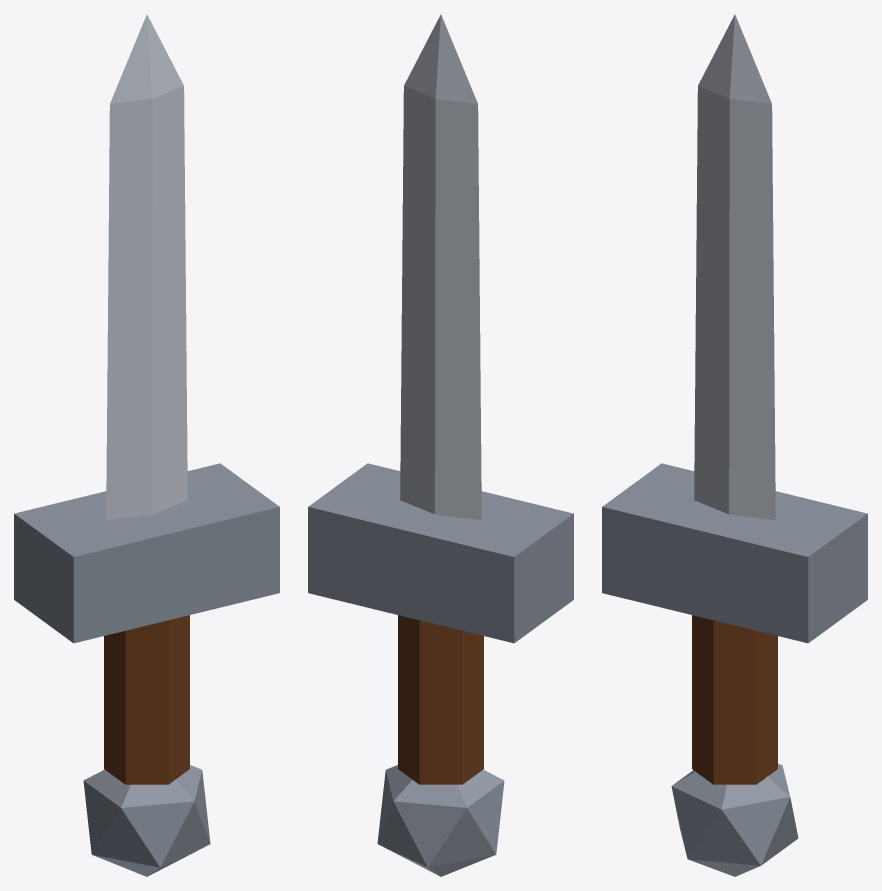
Rendered from dagger.fbx.
The picture shows the model from 3 angles, left to right: view 1: azimuth 30°, elevation 25°; view 2: azimuth 150°, elevation 25°; view 3: azimuth 330°, elevation 25°; orthographic projection.
Parts seen in each view (by area): view 1: dagger; view 2: dagger; view 3: dagger.
Boxes of the visible parts, left/top/right/bottom form: dagger: left=14, top=14, right=279, bottom=876; dagger: left=308, top=14, right=573, bottom=876; dagger: left=602, top=14, right=867, bottom=876.
Size of the model in its own units: 0.1 by 0.4 by 0.051.
